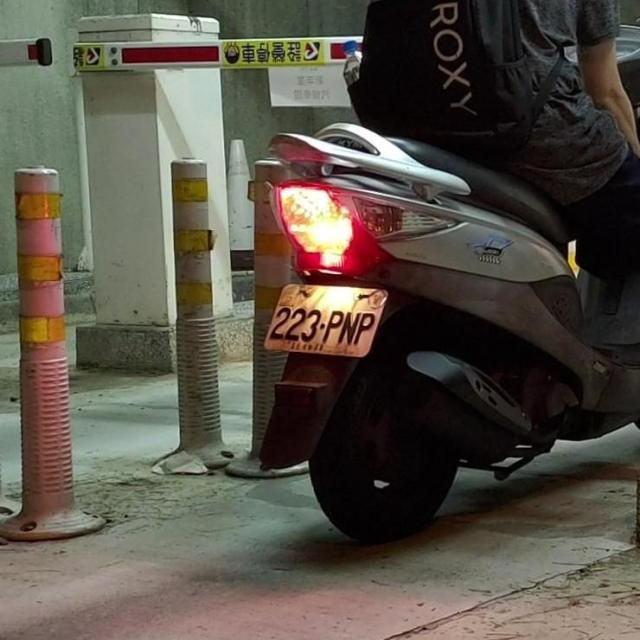W: (261, 270, 394, 362)
